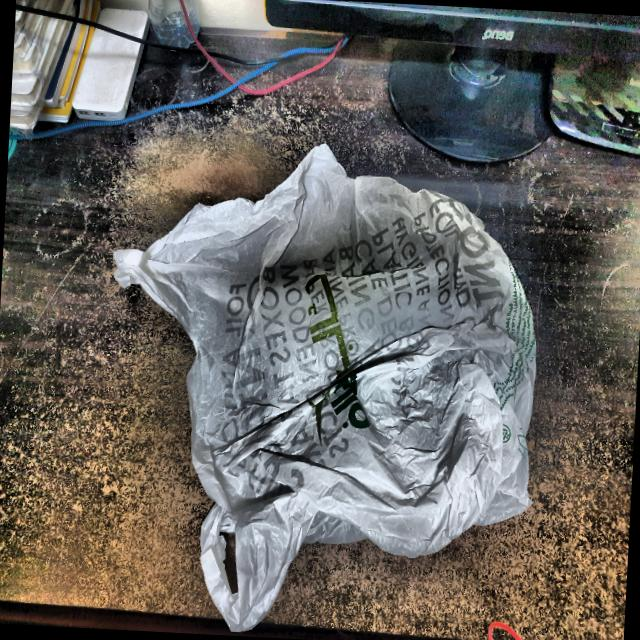plastic bag: (87, 121, 561, 640)
